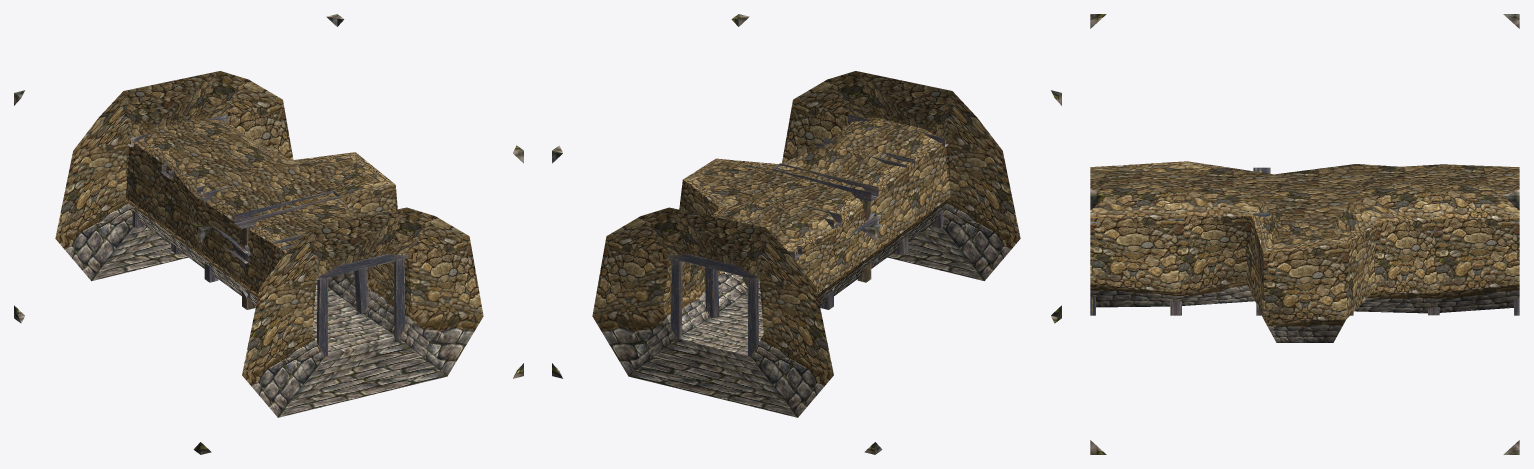
Rendered from Lbm_2h.glb.
3 renders of one model, left to right at view 1: azimuth 30°, elevation 25°; view 2: azimuth 150°, elevation 25°; view 3: azimuth 270°, elevation 25°, orthographic. The views are drawn at different scales.
Visible parts, largest first — view 1: Lbm_2h; view 2: Lbm_2h; view 3: Lbm_2h.
Part boxes in pixels (x1,y1,x2,y2): Lbm_2h: [14, 14, 523, 454]; Lbm_2h: [552, 14, 1061, 454]; Lbm_2h: [1090, 14, 1519, 454].
Bounding box in the file's own units: 15 × 10 × 15.
Materials: 6 (6 with a texture image).
